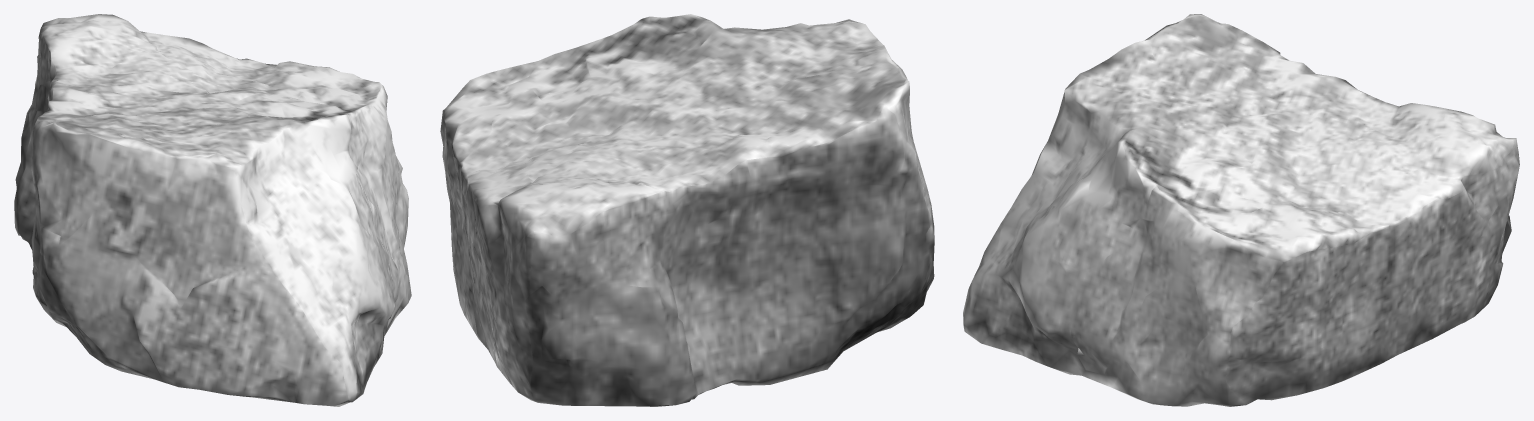
File: boulder-quarried-block-lod1.glb
3 views of the same model, side by side, from view 1: azimuth 30°, elevation 25°; view 2: azimuth 150°, elevation 25°; view 3: azimuth 270°, elevation 25° (orthographic). The views are drawn at different scales.
Parts seen in each view (by area): view 1: boulder_03_LOD0; view 2: boulder_03_LOD0; view 3: boulder_03_LOD0.
Boxes of the visible parts, x1=… form: boulder_03_LOD0: x1=14, y1=14, x2=411, y2=406; boulder_03_LOD0: x1=440, y1=14, x2=934, y2=406; boulder_03_LOD0: x1=963, y1=14, x2=1519, y2=406.
Bounding box in the file's own units: 2.4 × 1.47 × 3.06.
Materials: 1 (1 with a texture image).
